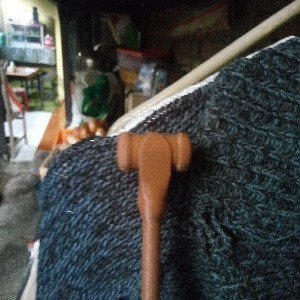palu: (116, 132, 192, 300)
